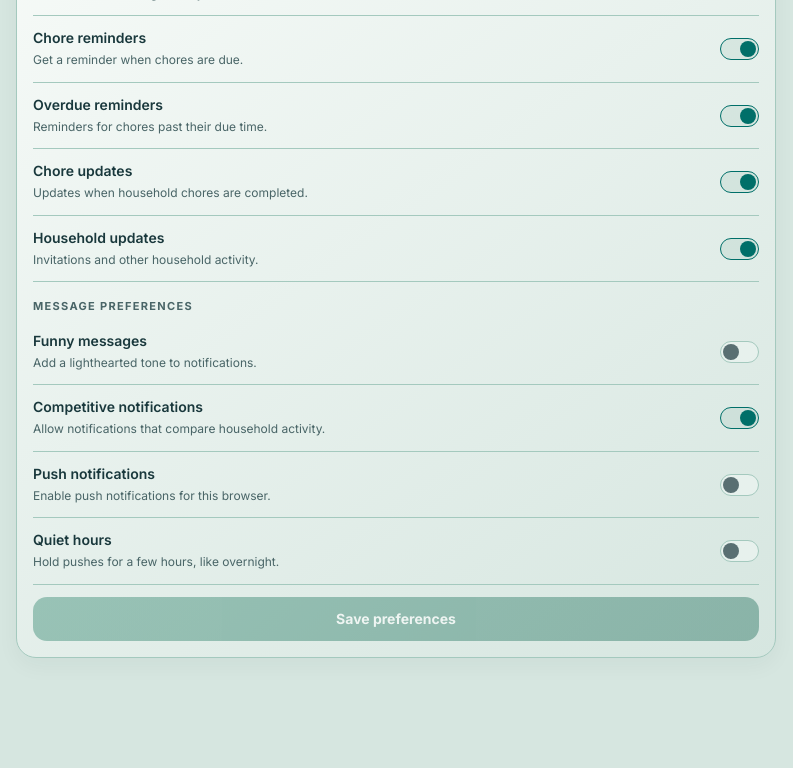
Test case: notifications screen › turns quiet hours on with 10 PM to 8 AM, explains them, and saves them
The width and height of the screenshot is (793, 768).
(page scrolled)
Step 1. Click the checkbox labelled "Quiet hours" → (740, 551), box [720, 540, 759, 562]
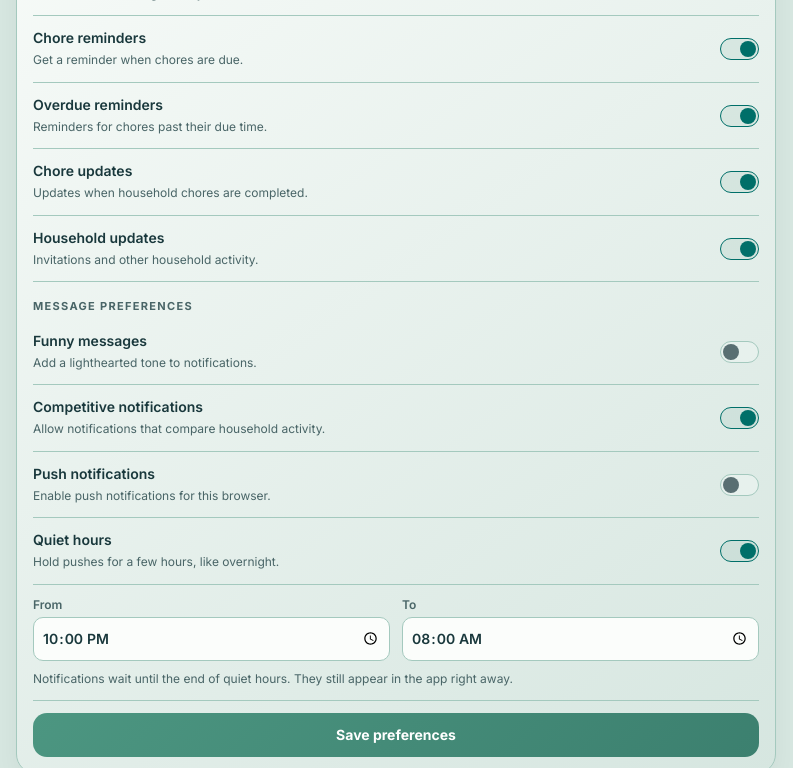
Expected: the time field named "Quiet hours from" holds "22:00", [33, 617, 390, 661]
Expected: the time field named "Quiet hours to" holds "08:00"
Expected: the text "Notifications wait until the end of quiet hours. They still appear in the app right away." is shown, [33, 671, 513, 686]
# A window needs different start and end times.
Step 2. Replace the text in the time field named "Quiet hours to" with "22:00" → (580, 639), box [402, 617, 759, 661]
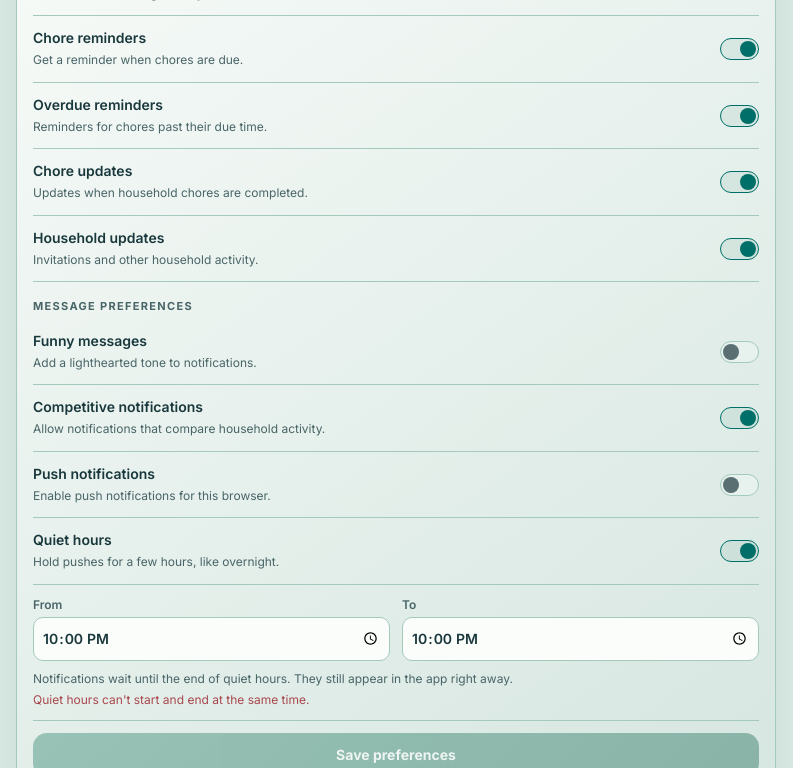
Expected: the message reads "Quiet hours can't start and end at the same time.", [33, 692, 309, 707]
Step 3. Replace the text in the time field named "Quiet hours to" with "07:30" → (580, 639), box [402, 617, 759, 661]
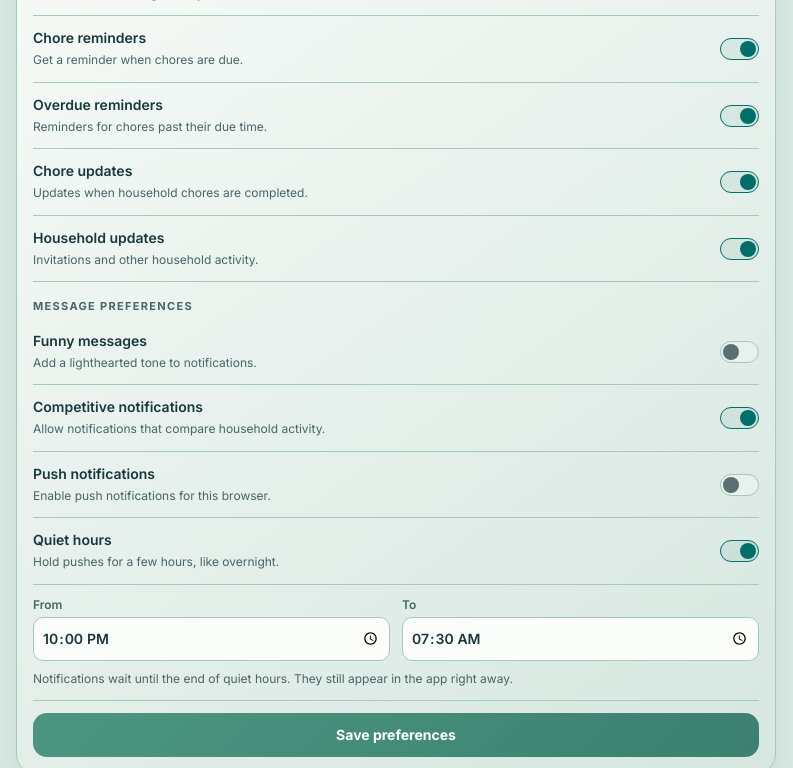
Step 4. Click the button "Save preferences" → (396, 735), box [33, 713, 759, 757]
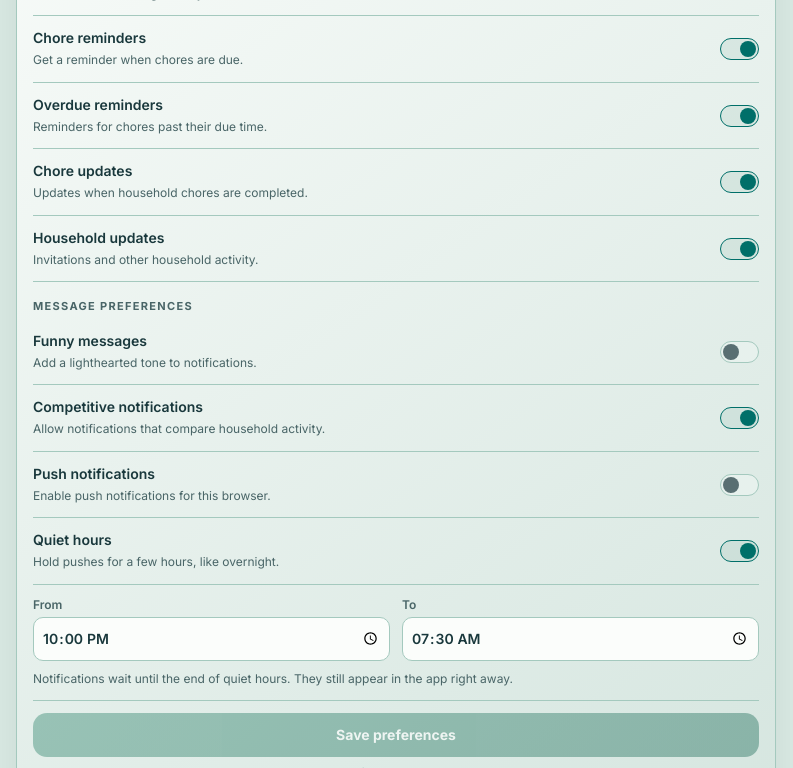
# Off hides the times but keeps them for next time.
Step 5. Click the checkbox labelled "Quiet hours" → (740, 551), box [720, 540, 759, 562]
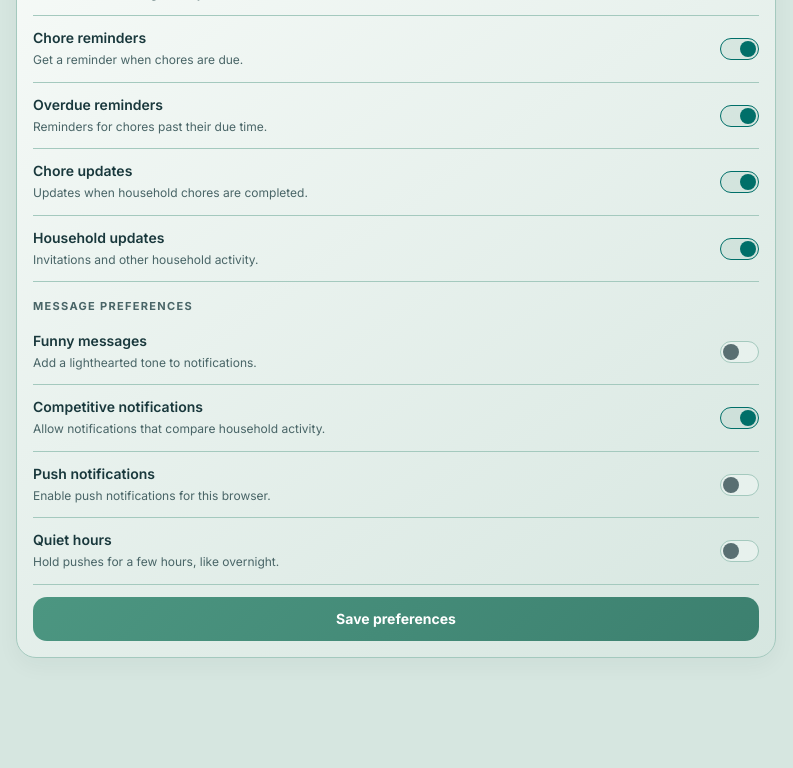
Expected: the time field labelled "Quiet hours from" is gone
